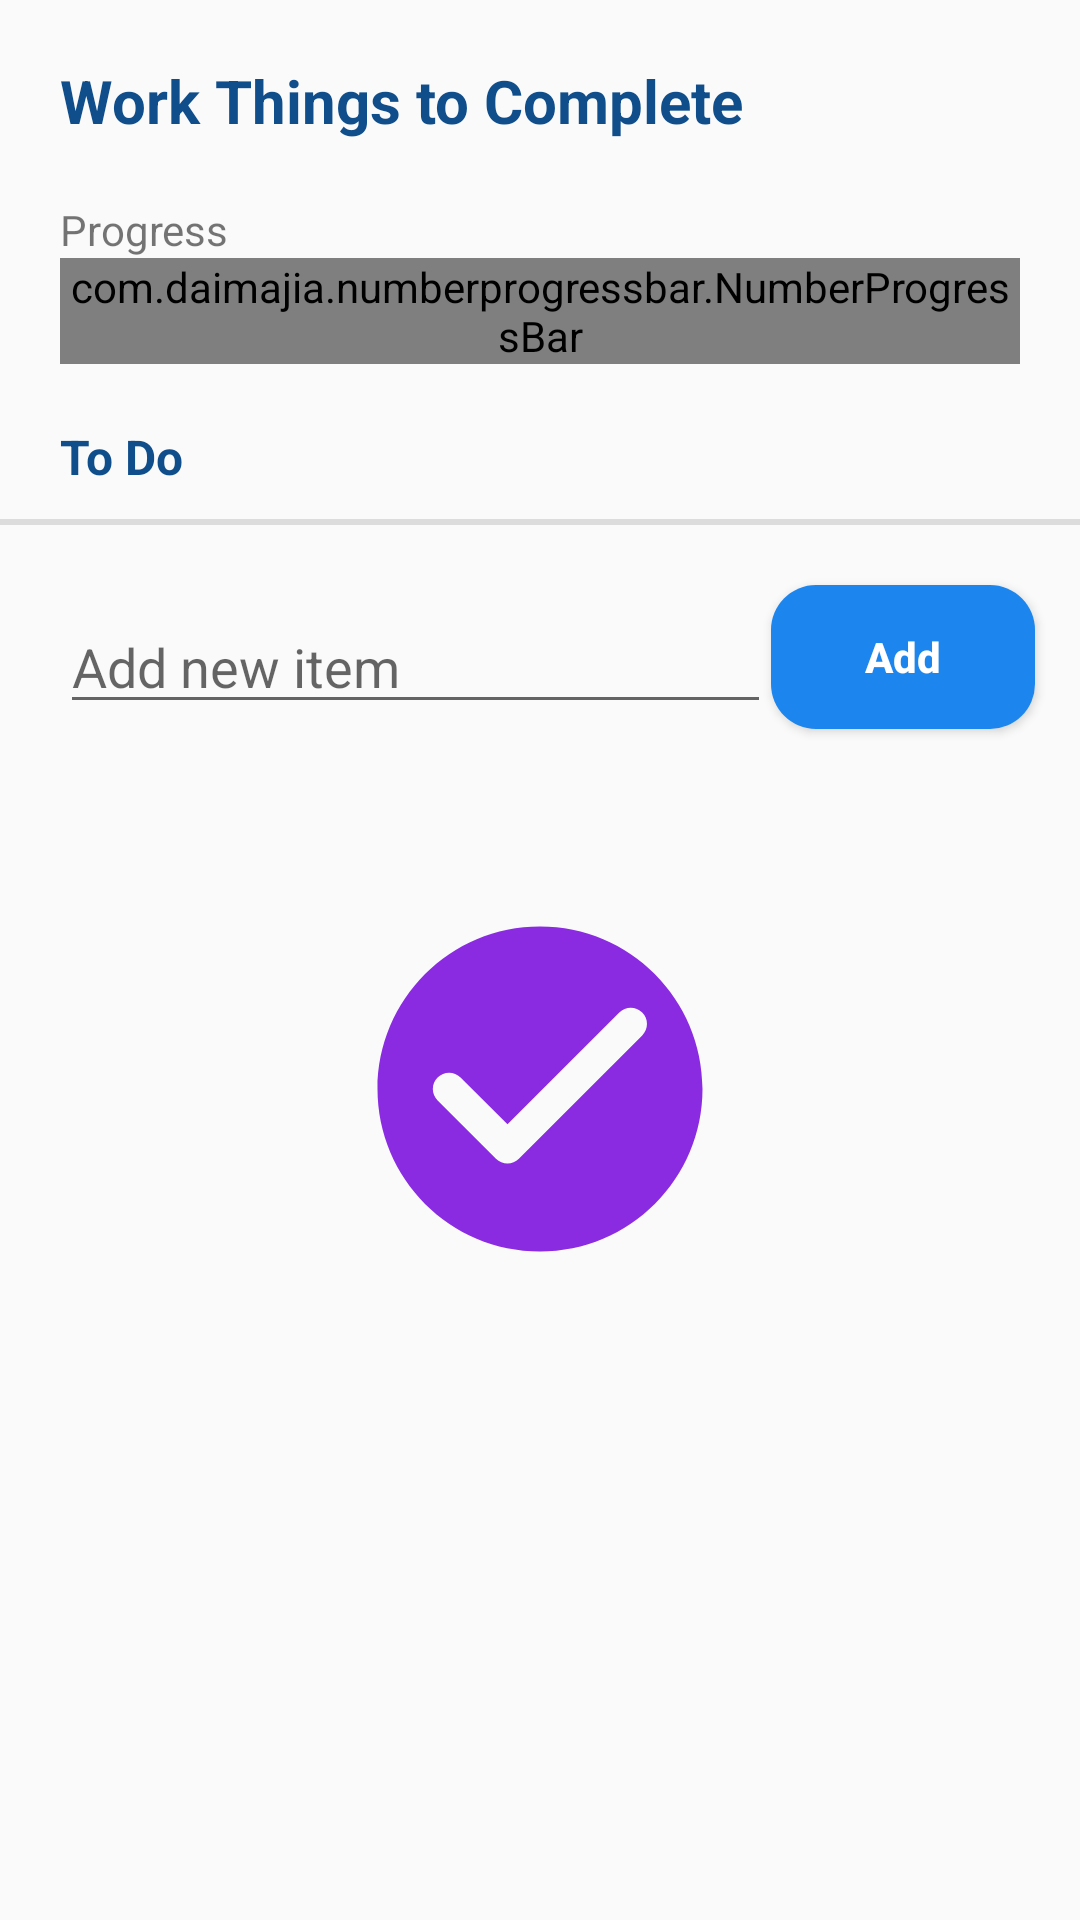

Screen size 1080×1920. Icon name, then its center in pixels as (x,y):
check: (540,1089)
